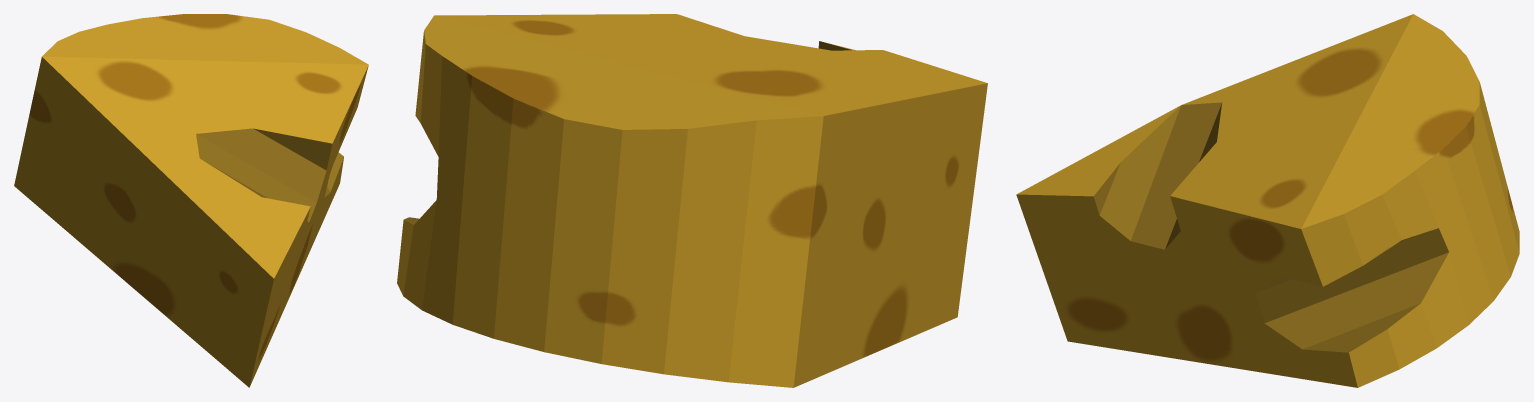
Rendered from Cheese.fbx.
3 views of the same model, side by side, from view 1: azimuth 30°, elevation 25°; view 2: azimuth 150°, elevation 25°; view 3: azimuth 270°, elevation 25° (orthographic). The views are drawn at different scales.
Visible parts, largest first — view 1: ``; view 2: ``; view 3: ``.
Boxes of the visible parts, x1,y1,x2,y2 form: ``: (14,14,368,387); ``: (397,14,987,387); ``: (1016,14,1519,387).
Size of the model in its own units: 69 by 55.85 by 87.84.
1 material, 1 textured.
